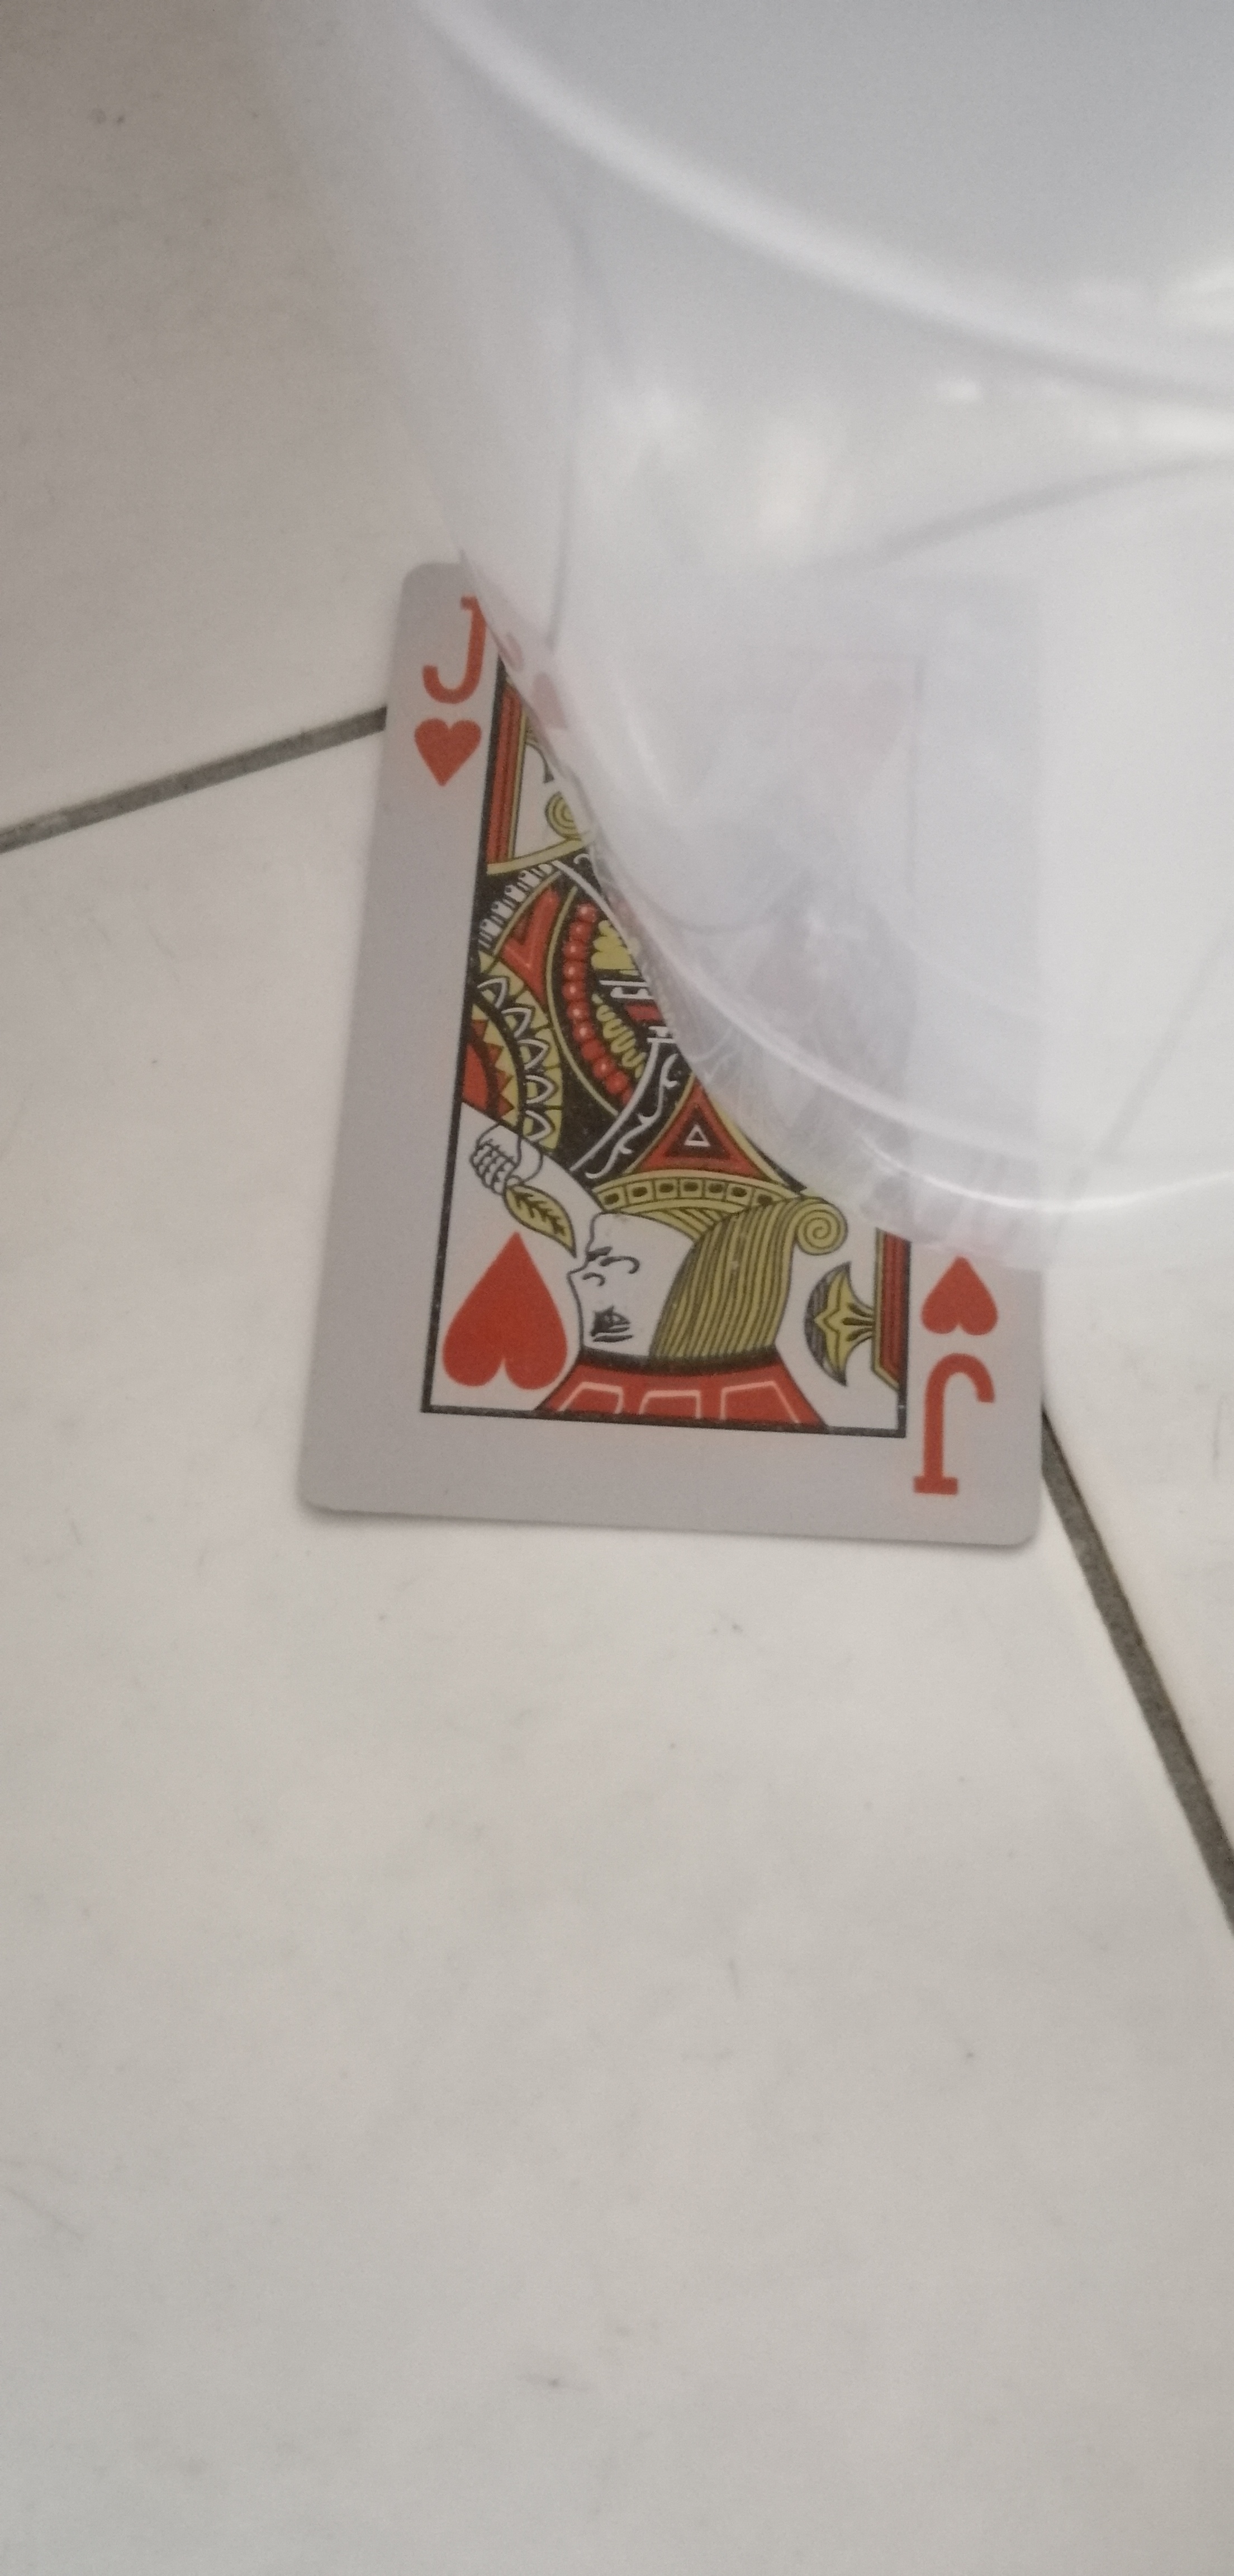jack: (263, 580, 1091, 1617)
